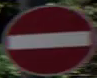No entry: (6, 12, 91, 66)
